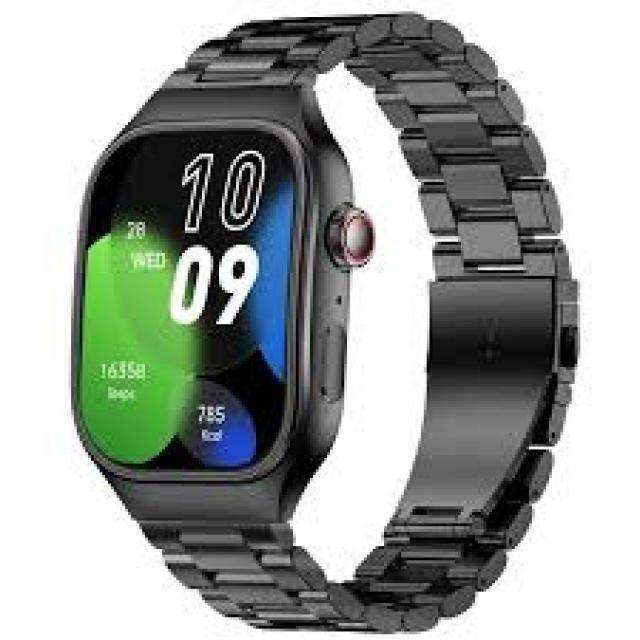objects: (0, 3, 637, 634), (71, 14, 575, 629), (290, 65, 430, 577)
